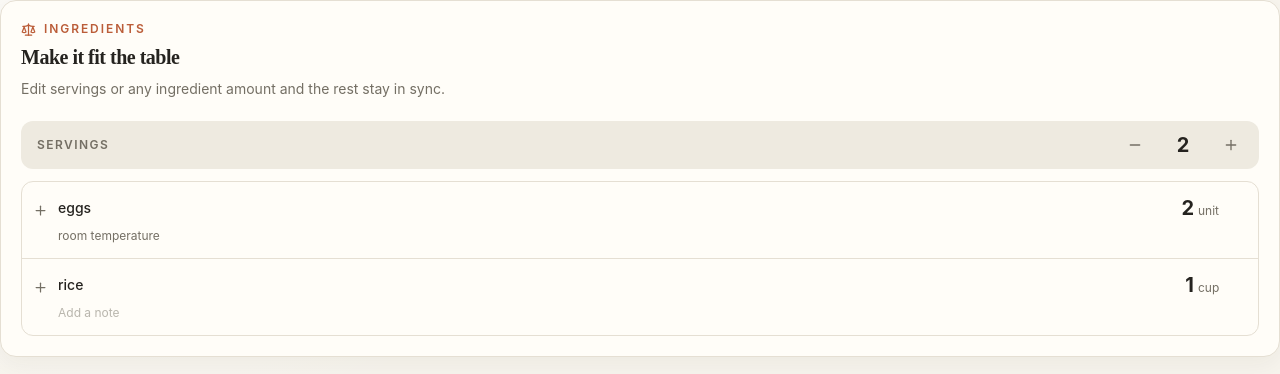
Test: IngredientEditor › keeps portions and every amount synchronized with the actively edited ingredient
Replace the text in the number field named "Amount for rice" with "3" at (1031, 284), box [867,270,1194,298]
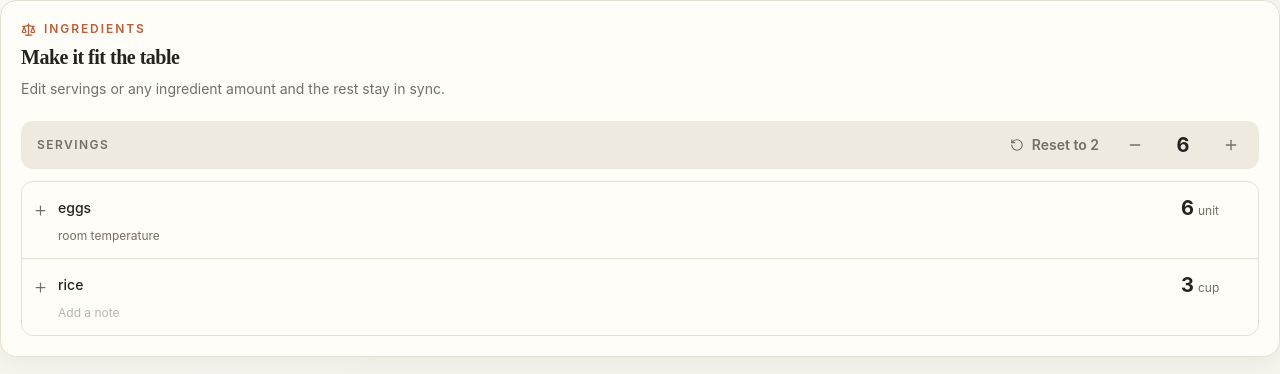
Expected: the number field named "Amount for eggs" holds "6", [867,194,1194,222]
Expected: the number field named "Servings" holds "6", [1155,127,1211,163]
Expected: the button with aria-label "Reset servings to 2" is shown, [998,127,1111,163]
